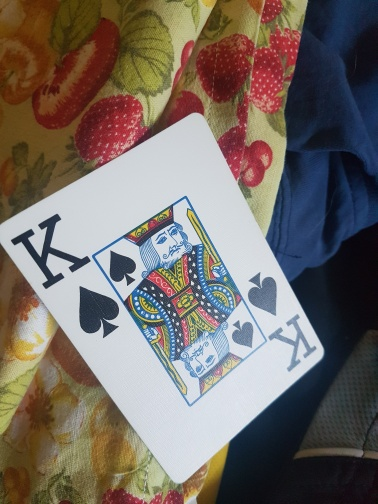king: (1, 115, 325, 483)
